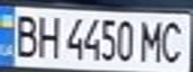0: (115, 17, 139, 63)
4: (81, 15, 103, 62), (63, 14, 84, 61)
5: (100, 16, 121, 62)
B: (9, 10, 42, 58)
C: (157, 17, 190, 64)
H: (33, 11, 63, 60)
M: (136, 17, 166, 63)
